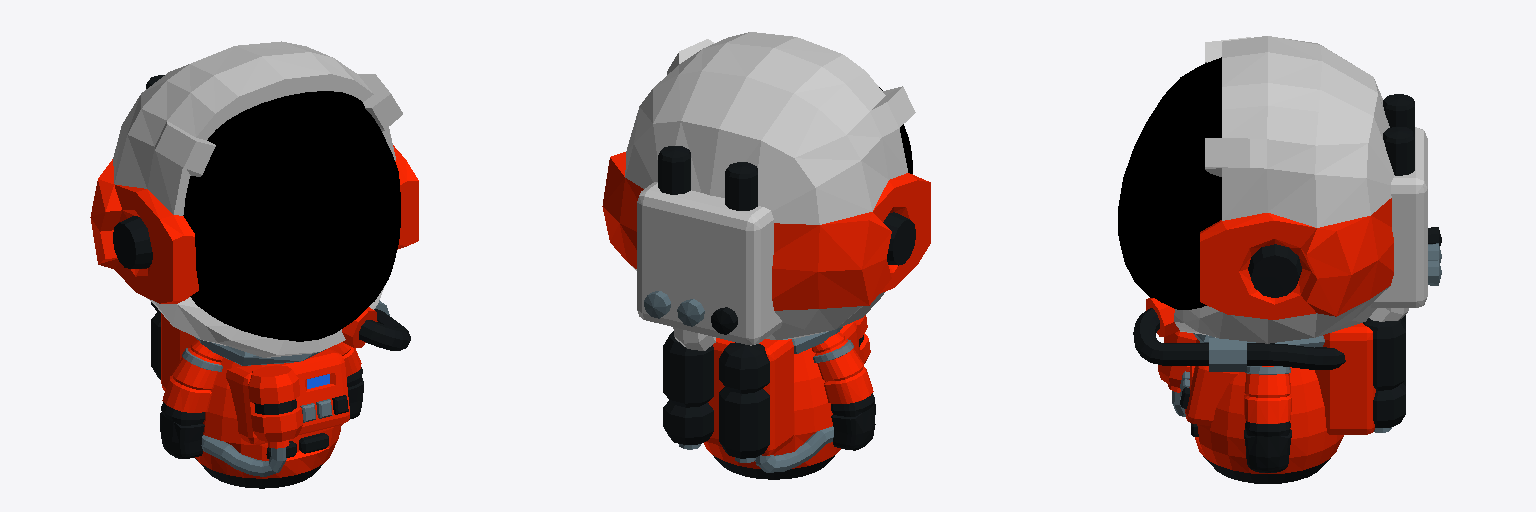
Rendered from character_astronaut_B.obj.
3 views of the same model, side by side, from view 1: azimuth 30°, elevation 25°; view 2: azimuth 150°, elevation 25°; view 3: azimuth 270°, elevation 25° (orthographic).
Parts seen in each view (by area): view 1: character_astronaut_helmet_B_Roundcube.101, character_astronaut_body_B_Cube.131, character_astronaut_armRight_B_Cube.127, character_astronaut_backpack_B_Roundcube.102, character_astronaut_armLeft_B_Cube.126; view 2: character_astronaut_helmet_B_Roundcube.101, character_astronaut_backpack_B_Roundcube.102, character_astronaut_body_B_Cube.131, character_astronaut_armRight_B_Cube.127; view 3: character_astronaut_helmet_B_Roundcube.101, character_astronaut_body_B_Cube.131, character_astronaut_backpack_B_Roundcube.102, character_astronaut_armLeft_B_Cube.126.
Part boxes in pixels (left/top/right/bottom): character_astronaut_helmet_B_Roundcube.101: left=90, top=41, right=418, bottom=365; character_astronaut_body_B_Cube.131: left=195, top=348, right=349, bottom=488; character_astronaut_armRight_B_Cube.127: left=160, top=340, right=223, bottom=458; character_astronaut_backpack_B_Roundcube.102: left=151, top=302, right=196, bottom=390; character_astronaut_armLeft_B_Cube.126: left=329, top=342, right=363, bottom=419; character_astronaut_helmet_B_Roundcube.101: left=602, top=32, right=930, bottom=353; character_astronaut_backpack_B_Roundcube.102: left=663, top=331, right=793, bottom=462; character_astronaut_body_B_Cube.131: left=704, top=315, right=870, bottom=479; character_astronaut_armRight_B_Cube.127: left=812, top=332, right=875, bottom=450; character_astronaut_helmet_B_Roundcube.101: left=1118, top=36, right=1441, bottom=371; character_astronaut_body_B_Cube.131: left=1158, top=331, right=1343, bottom=483; character_astronaut_backpack_B_Roundcube.102: left=1315, top=315, right=1405, bottom=434; character_astronaut_armLeft_B_Cube.126: left=1244, top=366, right=1291, bottom=472.
Size of the model in its own units: 1.36 by 1.93 by 1.39.